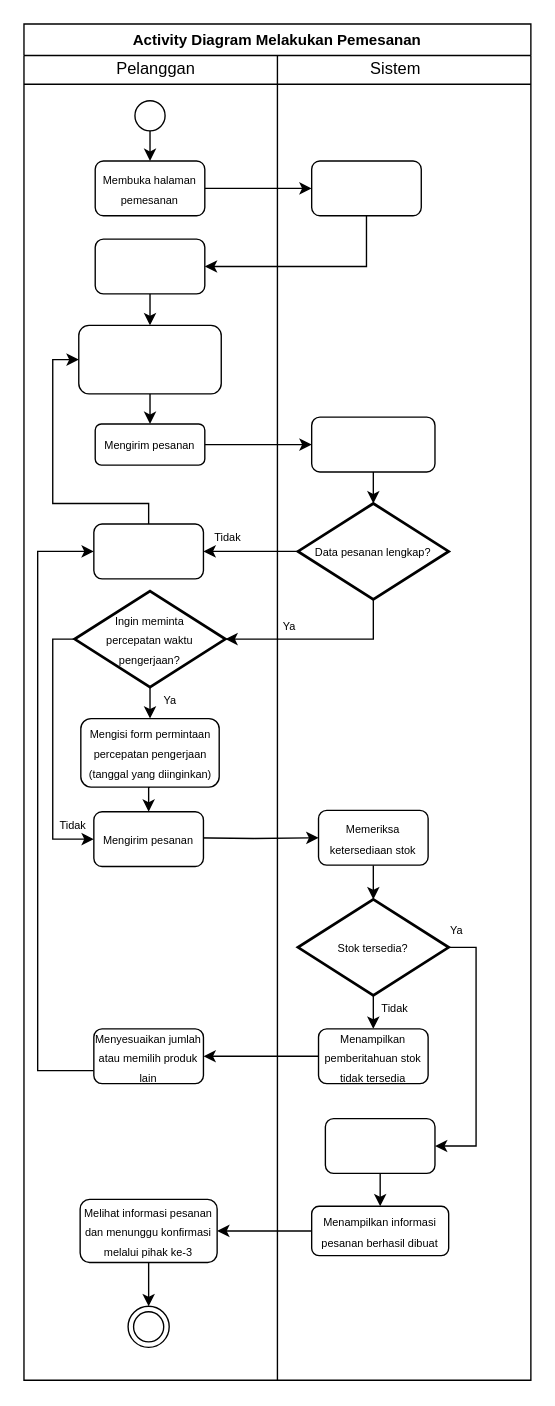
Some shapes in this 555 by 1406 pixel diagram are drawn without their labels. Here are the shapes that lost their labels. From the top down, the box of each, then its label:
(310, 160, 421, 216): Menampilkan halaman pemesanan
(94, 238, 205, 294): Memilih produk yang ingin dipesan
(77, 324, 221, 394): Mengisi detail pesanan (jumlah, warna, permintaan khusus)
(310, 416, 435, 472): Memeriksa kelengkapan data pesanan
(92, 523, 203, 579): Mengisi kembali detail pesanan
(324, 1117, 435, 1173): Menyimpan data pesanan
